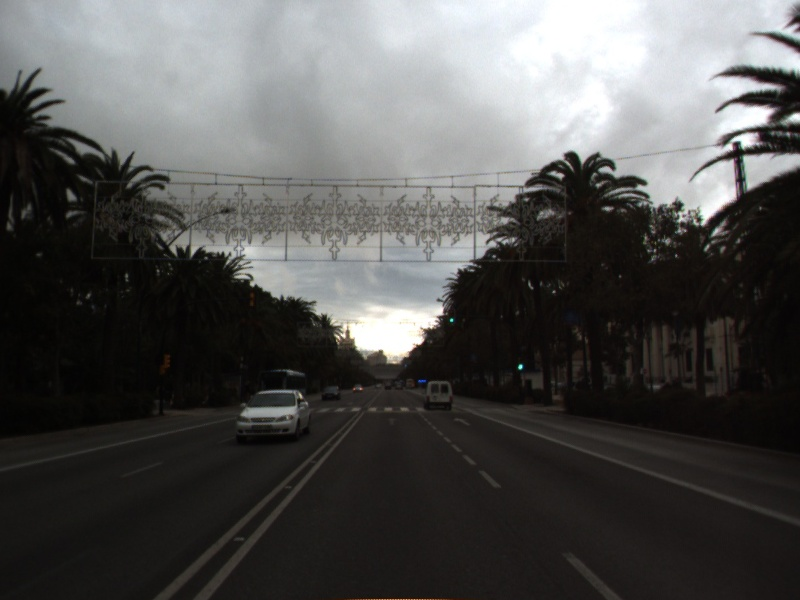STRAIGHT: (451, 415, 473, 428), (383, 415, 400, 428)
